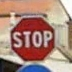stop: (8, 14, 55, 61)
